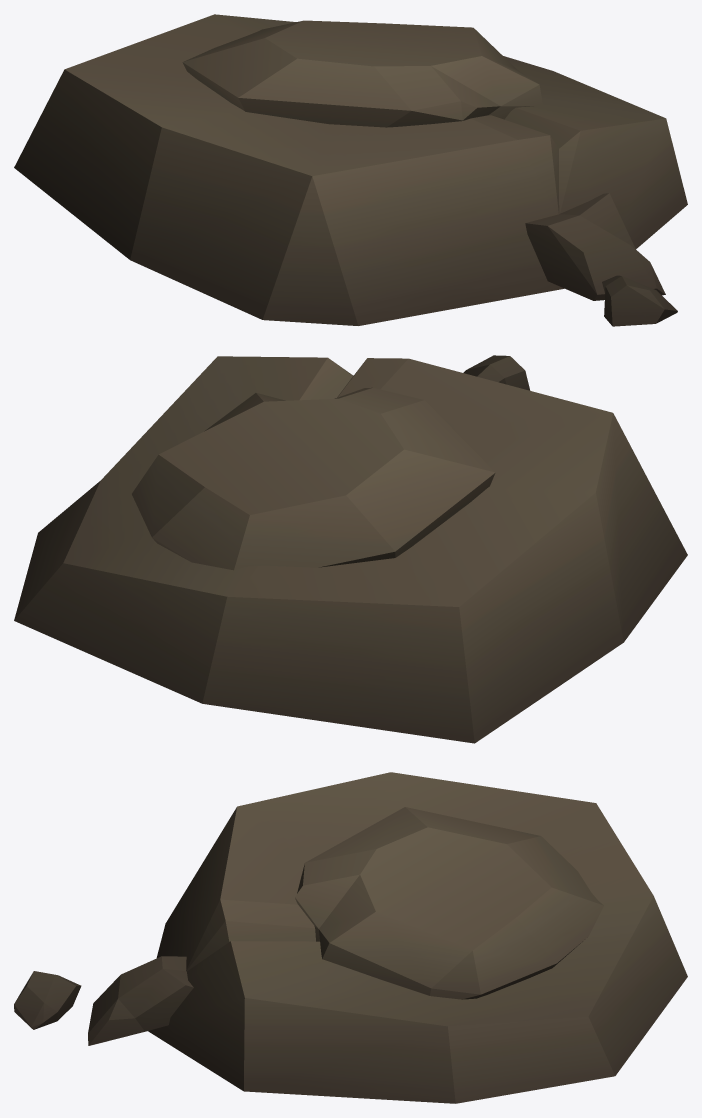
The model's file is LandMass_B.fbx.
3 views of the same model, one above another, from view 1: azimuth 30°, elevation 25°; view 2: azimuth 150°, elevation 25°; view 3: azimuth 270°, elevation 25° (orthographic). The views are drawn at different scales.
Visible parts, largest first — view 1: LandMass_B; view 2: LandMass_B; view 3: LandMass_B.
Boxes of the visible parts, x1,y1,x2,y2 form: LandMass_B: (14, 14, 687, 326); LandMass_B: (14, 355, 687, 743); LandMass_B: (14, 772, 687, 1103).
Size of the model in its own units: 4950 by 6206 by 1382.
Materials: 1 (1 with a texture image).
